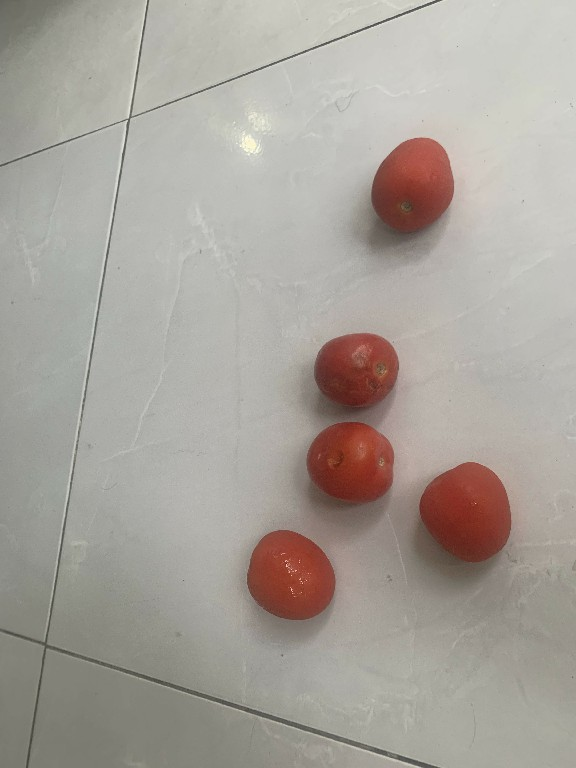NG: (303, 417, 398, 513), (312, 321, 400, 409)
OK: (406, 452, 515, 574), (365, 124, 454, 237), (242, 525, 337, 625)
